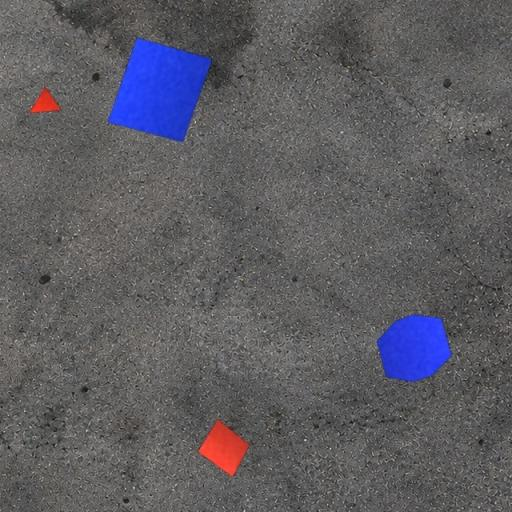BLUE_SQUARE: (106, 37, 213, 143)
RED_SQUARE: (197, 418, 250, 478)
